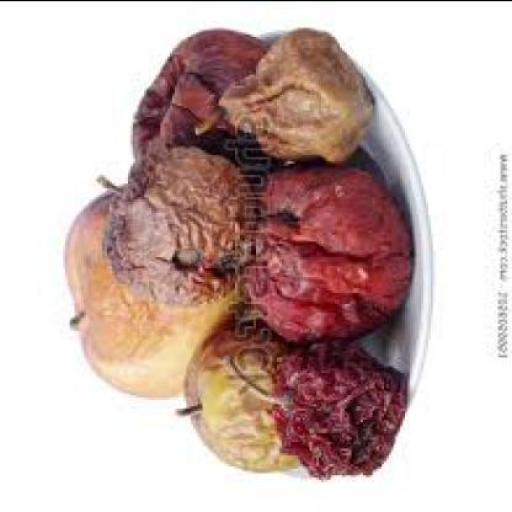biodegradable: (60, 182, 242, 399), (237, 160, 410, 342), (94, 143, 256, 305), (221, 336, 408, 476), (192, 24, 374, 162), (172, 318, 298, 470), (130, 24, 270, 158)
